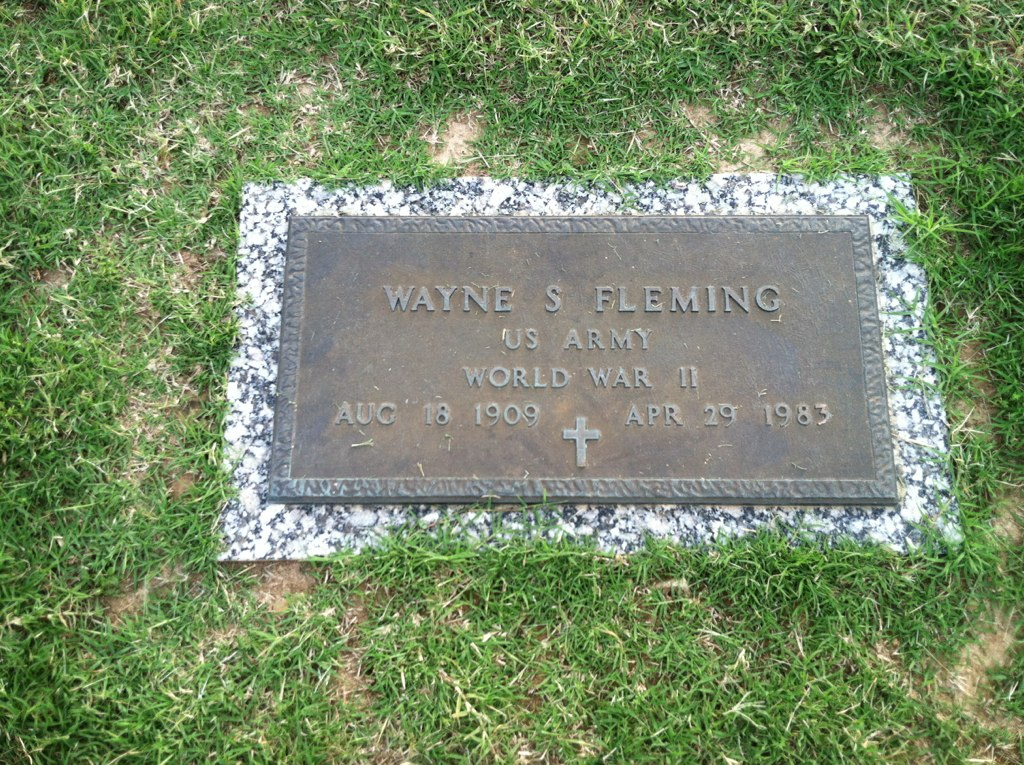flat: (208, 171, 967, 565)
